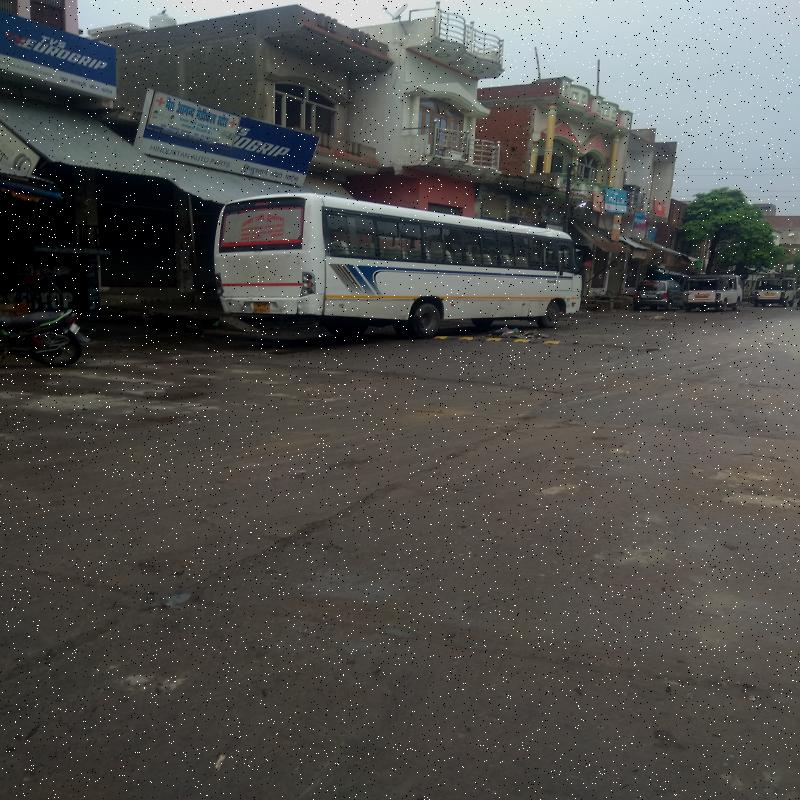bus: (195, 199, 590, 350)
